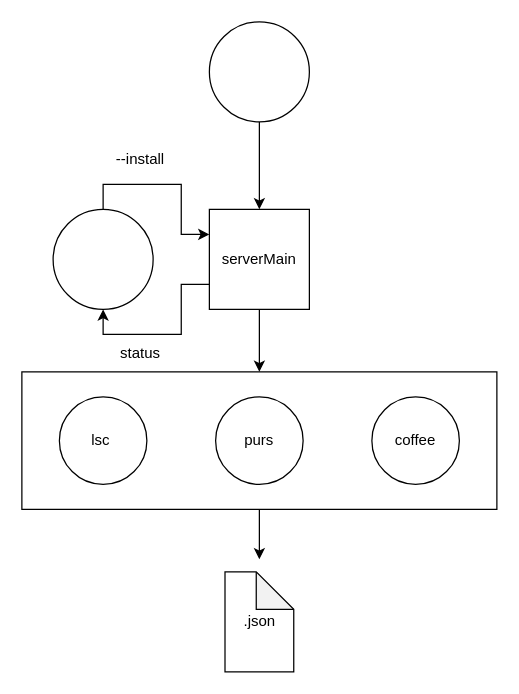
This 519x694 diagram has some shape labels left out. The shapes that lost their labels are listed below. From the top down, each one's centre as x and y in pixels, then its label:
At [258,71]: "Repo".
At [102,258]: "epm".
